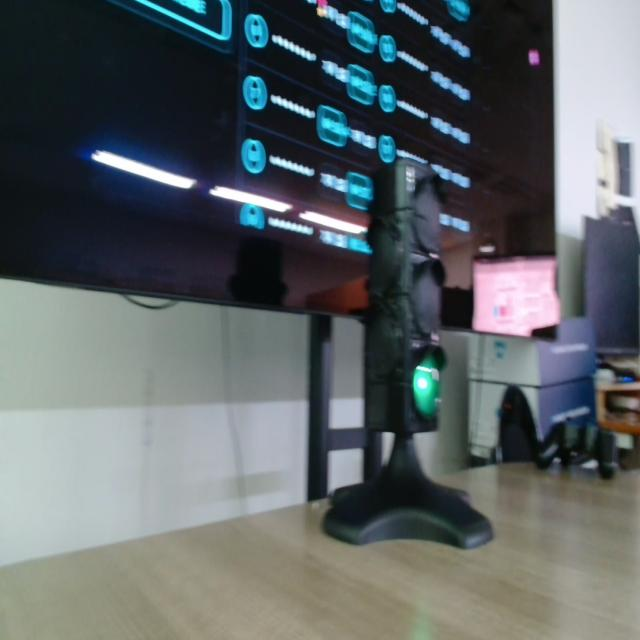green_light: (413, 357, 440, 418)
